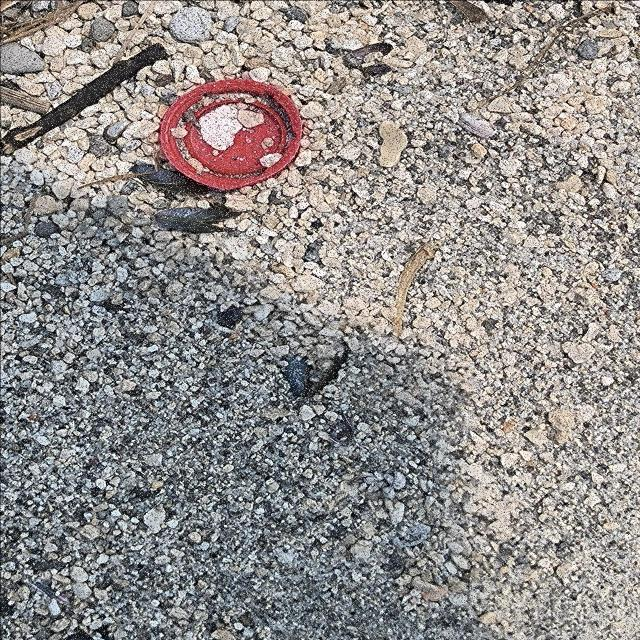plastic_waste: (159, 78, 305, 192)
